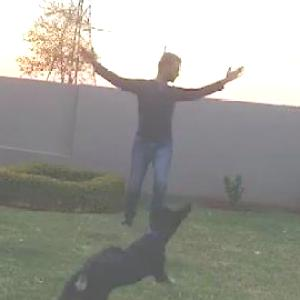takeoff: (81, 31, 260, 233)
